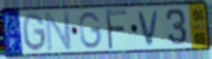3: (164, 8, 190, 48)
F: (104, 8, 129, 52)
G: (21, 12, 48, 54), (78, 10, 104, 50)
N: (43, 10, 74, 53)
V: (136, 9, 161, 48)
